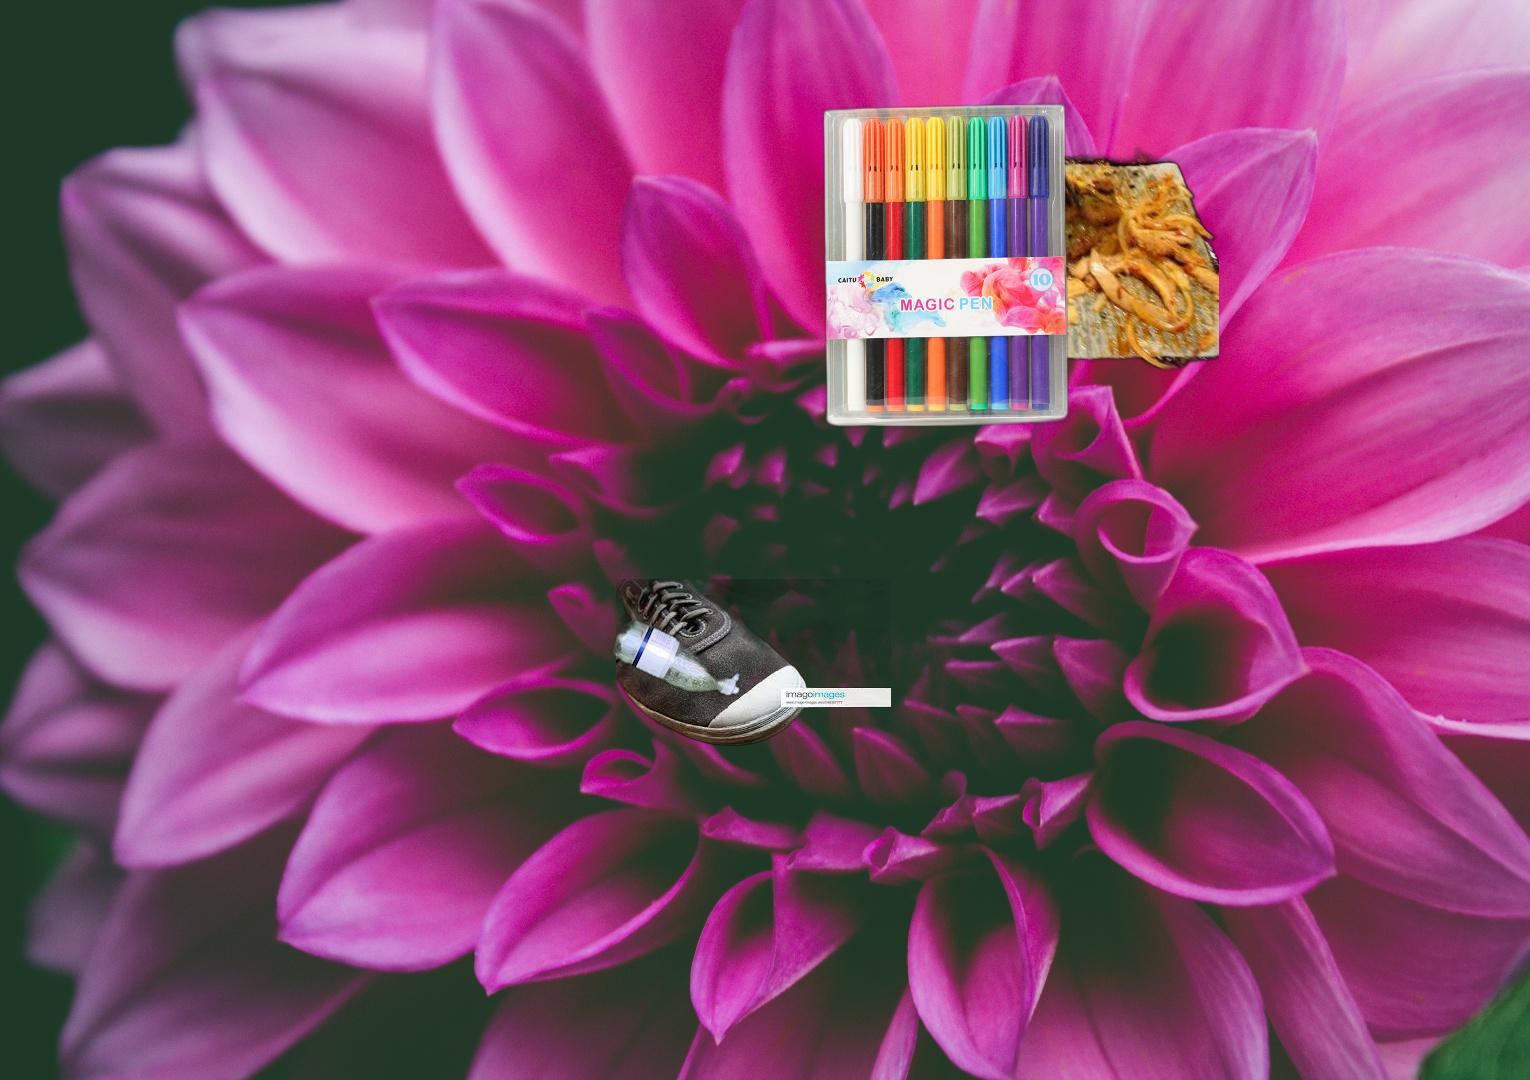biological: (839, 143, 1219, 376)
penholder: (740, 101, 1075, 430)
plastic-bottles: (608, 614, 745, 702)
shoes: (616, 579, 891, 748)
